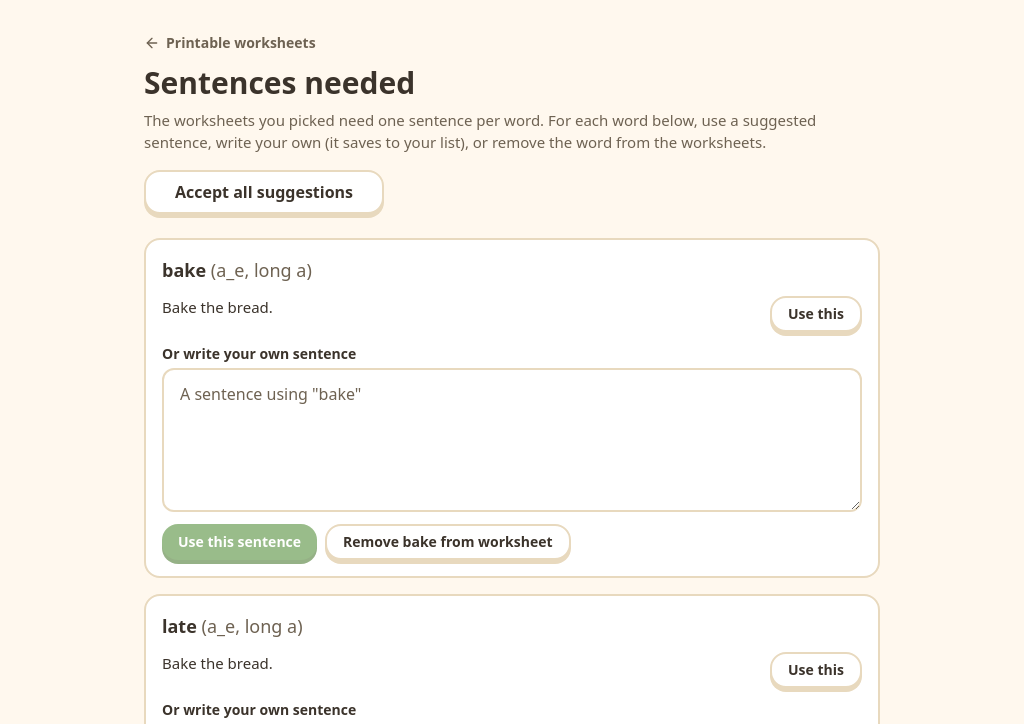
Test: WorksheetsPrintPage › sentence gap flow › disables the gap controls while a save is in flight
What coordinates should you click on to do the following:
click the 1st button "Use this"
I would click on:
 (816, 314)
Its box is [770, 296, 862, 332].
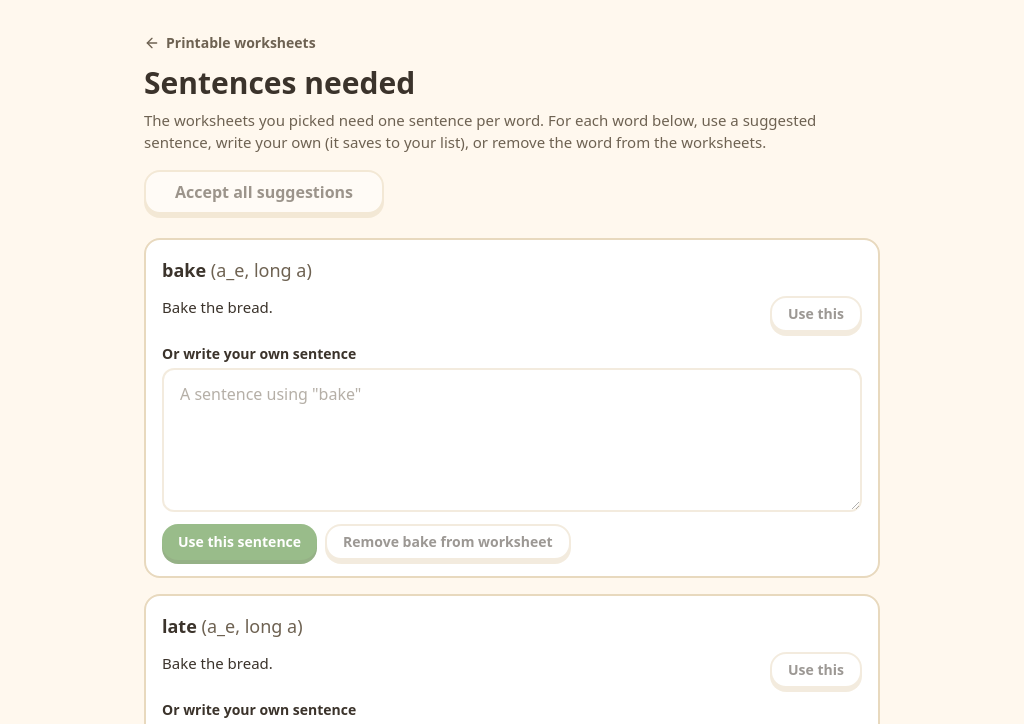
Expected: the 1st button "Use this" is disabled, [770, 296, 862, 332]
Expected: the 2nd button "Use this" is disabled, [770, 652, 862, 688]
Expected: the button "Remove bake from worksheet" is disabled, [325, 524, 570, 560]
